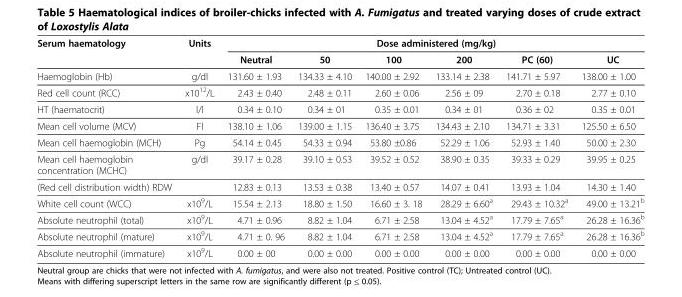table: (36, 36, 643, 258)
table column: (36, 36, 177, 258), (498, 36, 574, 258), (357, 36, 428, 258), (220, 36, 290, 258), (428, 36, 498, 258), (574, 36, 643, 258), (290, 36, 357, 258), (177, 36, 220, 258)
table column header: (36, 36, 643, 67)
table row: (36, 150, 643, 178), (36, 50, 643, 67), (36, 83, 643, 100), (36, 100, 643, 117), (36, 133, 643, 150), (36, 210, 643, 227), (36, 67, 643, 83), (36, 117, 643, 133), (36, 178, 643, 194), (36, 194, 643, 210), (36, 227, 643, 243), (36, 243, 643, 258), (36, 36, 643, 50)
table spanning cell: (220, 36, 643, 50), (36, 36, 177, 67), (177, 36, 220, 67)
